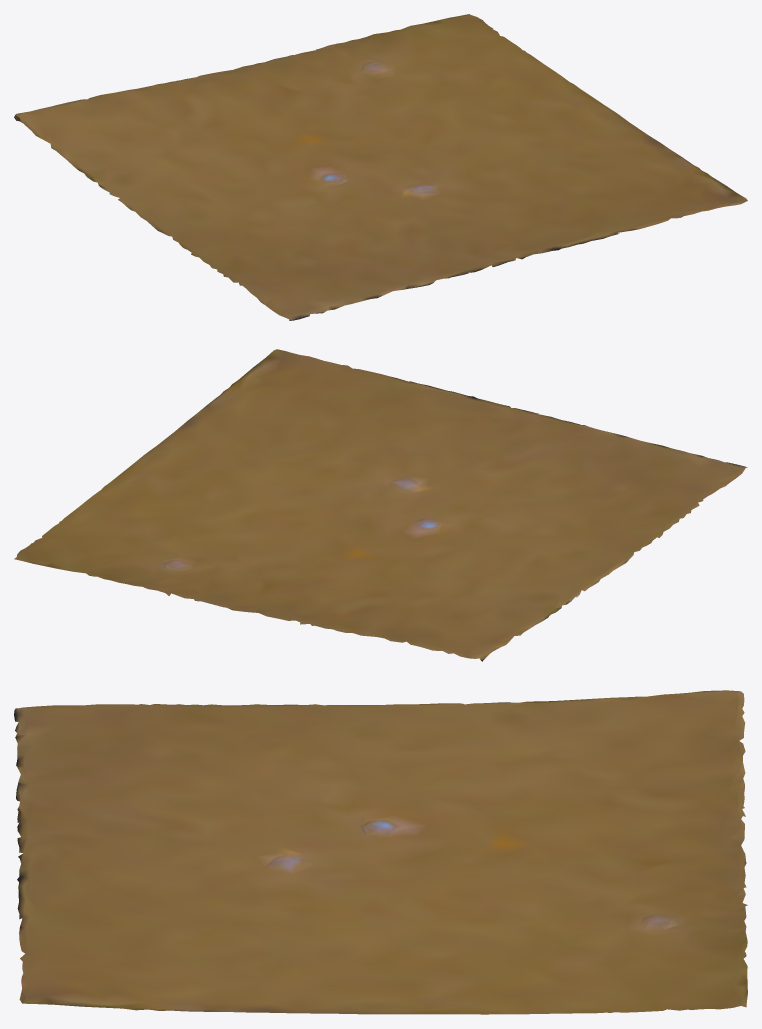
File: scan.obj
3 renders of one model, top to bottom at view 1: azimuth 30°, elevation 25°; view 2: azimuth 150°, elevation 25°; view 3: azimuth 270°, elevation 25°, orthographic. The views are drawn at different scales.
Visible parts, largest first — view 1: scan.ply; view 2: scan.ply; view 3: scan.ply.
Boxes of the visible parts, x1=… form: scan.ply: x1=14, y1=14, x2=747, y2=320; scan.ply: x1=14, y1=349, x2=747, y2=661; scan.ply: x1=14, y1=690, x2=747, y2=1014.
Bounding box in the file's own units: 0.1352 × 0.004 × 0.1355.
